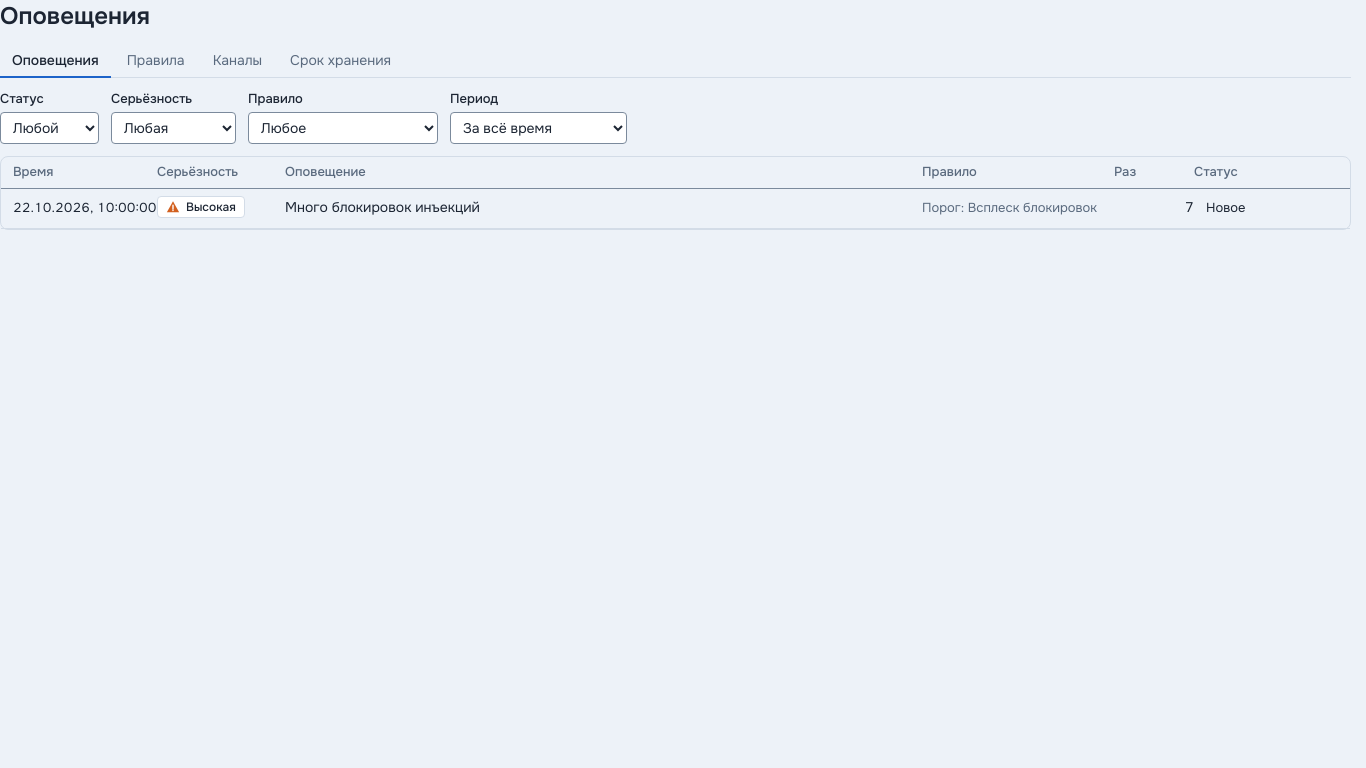
Test: экран «Оповещения»: список и карточка › сервер отказал (403): диалог остаётся с ошибкой
The image size is (1366, 768).
Click the button with aria-label "Открыть оповещение" at {"x": 382, "y": 207}, box [285, 198, 922, 218]
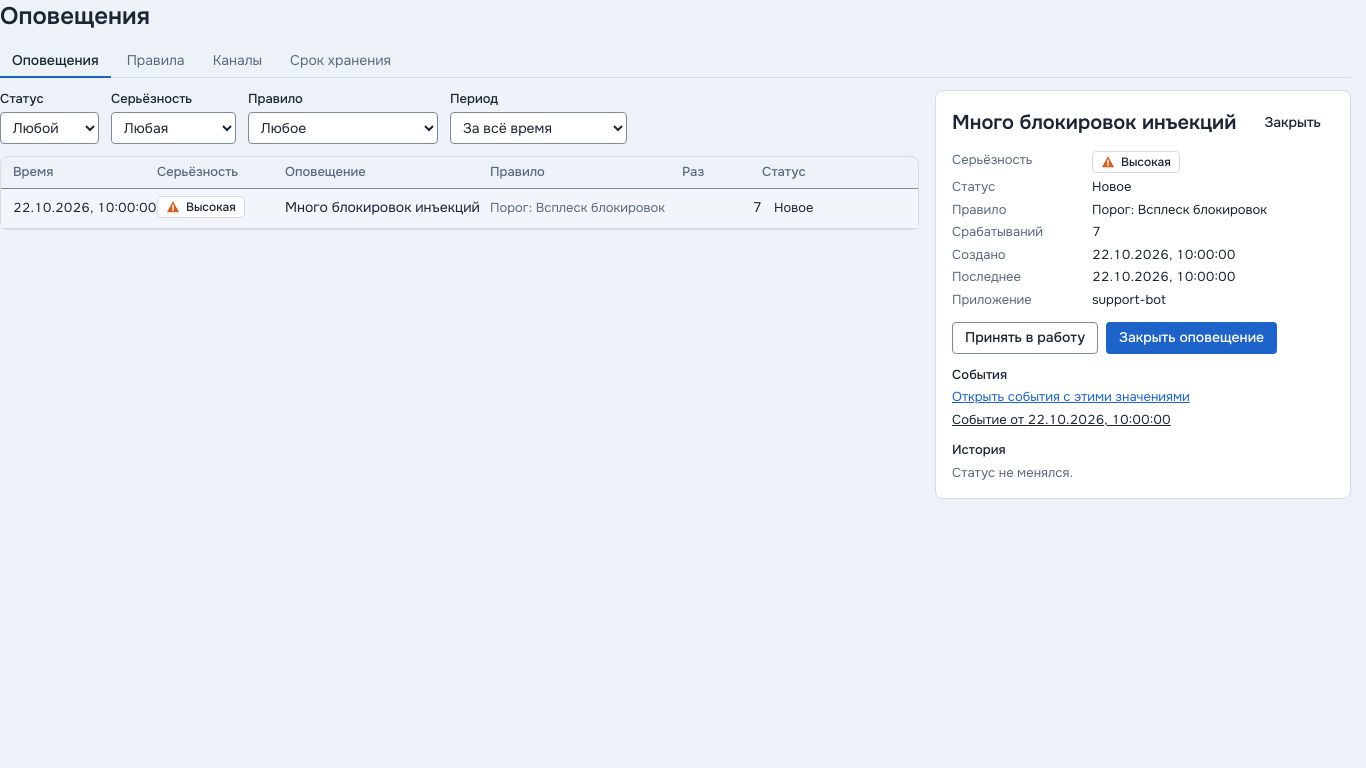
Click the button "Закрыть оповещение" at {"x": 1192, "y": 338}, box [1106, 322, 1277, 354]
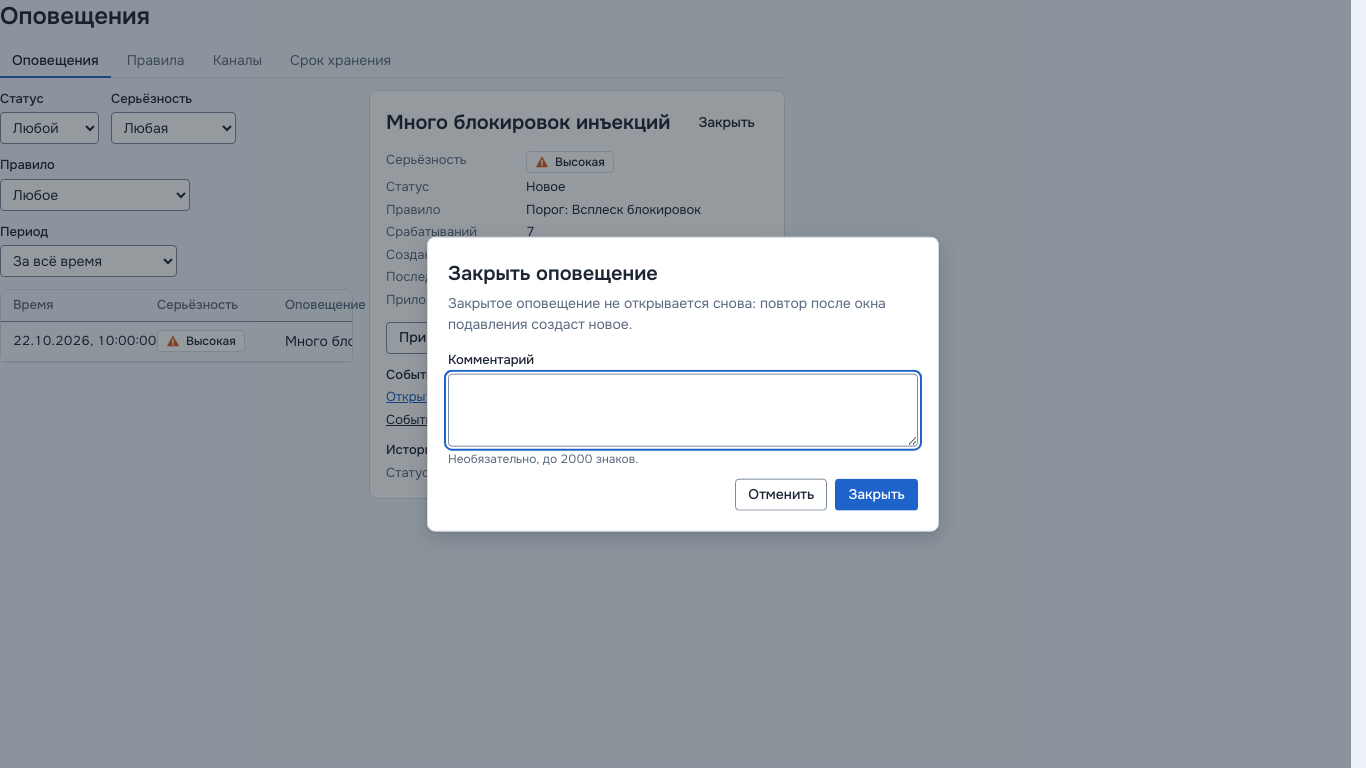
Click the button "Закрыть" at {"x": 877, "y": 494}, box [835, 478, 918, 510]
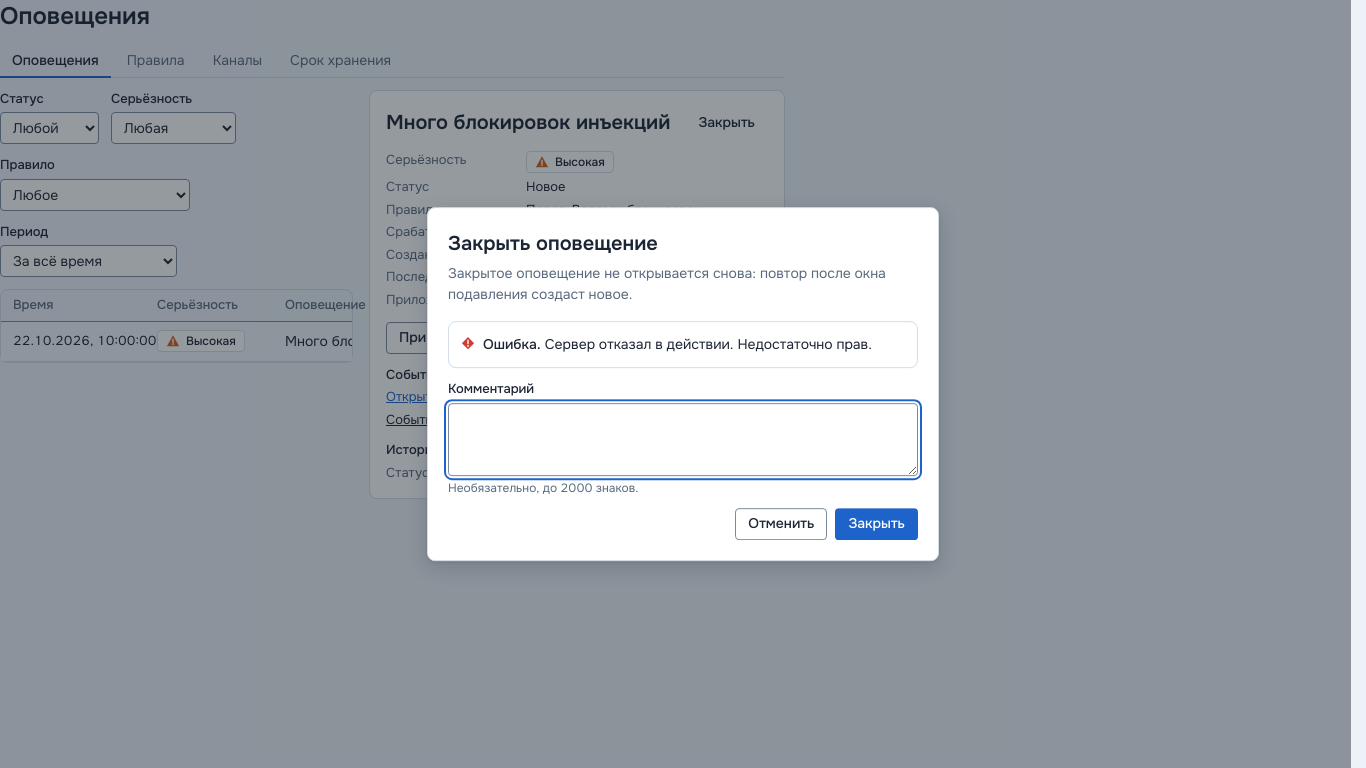
Expected: the text "Ошибка. Сервер отказал в действии. Недостаточно прав." is shown, [483, 334, 872, 355]
